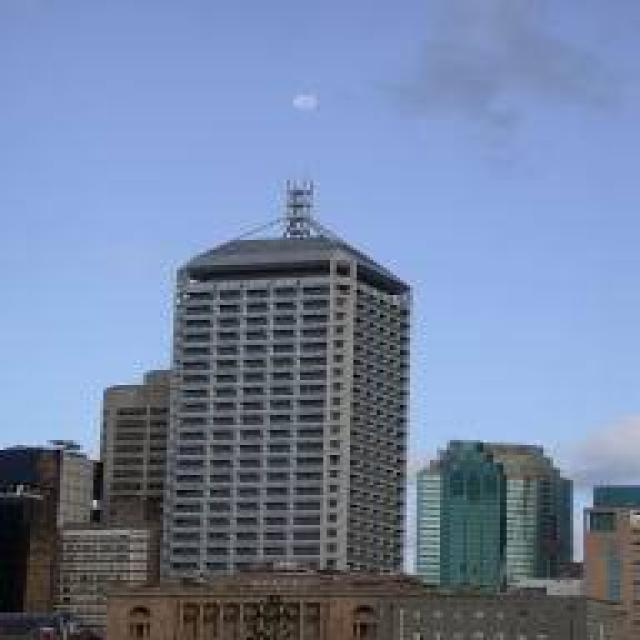building: (164, 181, 406, 579), (104, 576, 628, 640), (420, 440, 574, 591), (57, 525, 156, 640), (101, 367, 172, 525), (0, 440, 96, 523), (0, 481, 58, 612), (590, 485, 640, 595)
